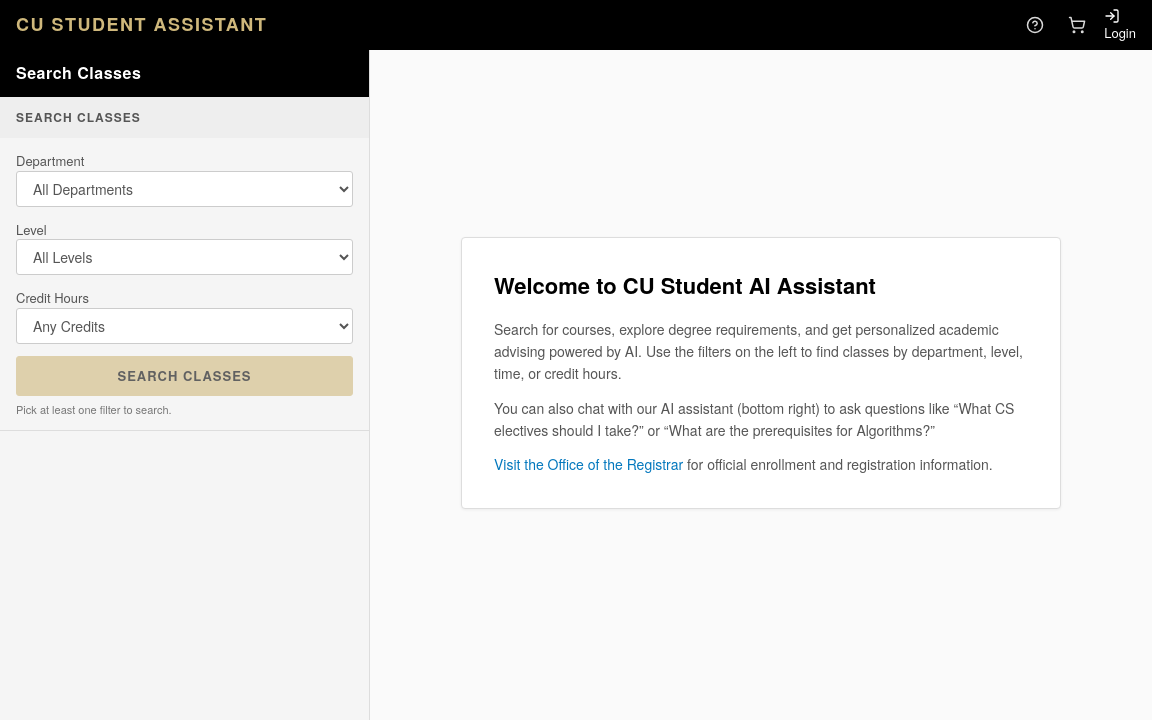
CourseSearchView › shows pagination footer with range and total after a search
Select "CSCI — Computer Science" in the dropdown with id "filter-dept" at (184, 188), box x1=16 y1=170 x2=353 y2=206
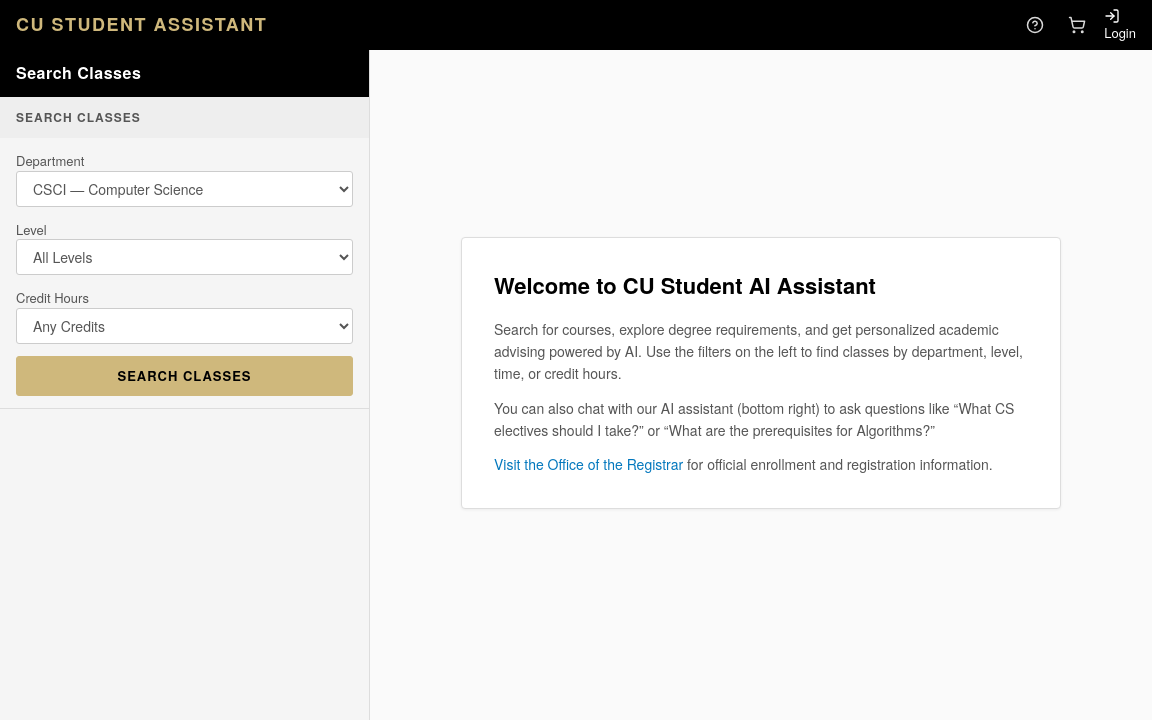
Submit the form, box x1=0 y1=97 x2=369 y2=409
(page scrolled)
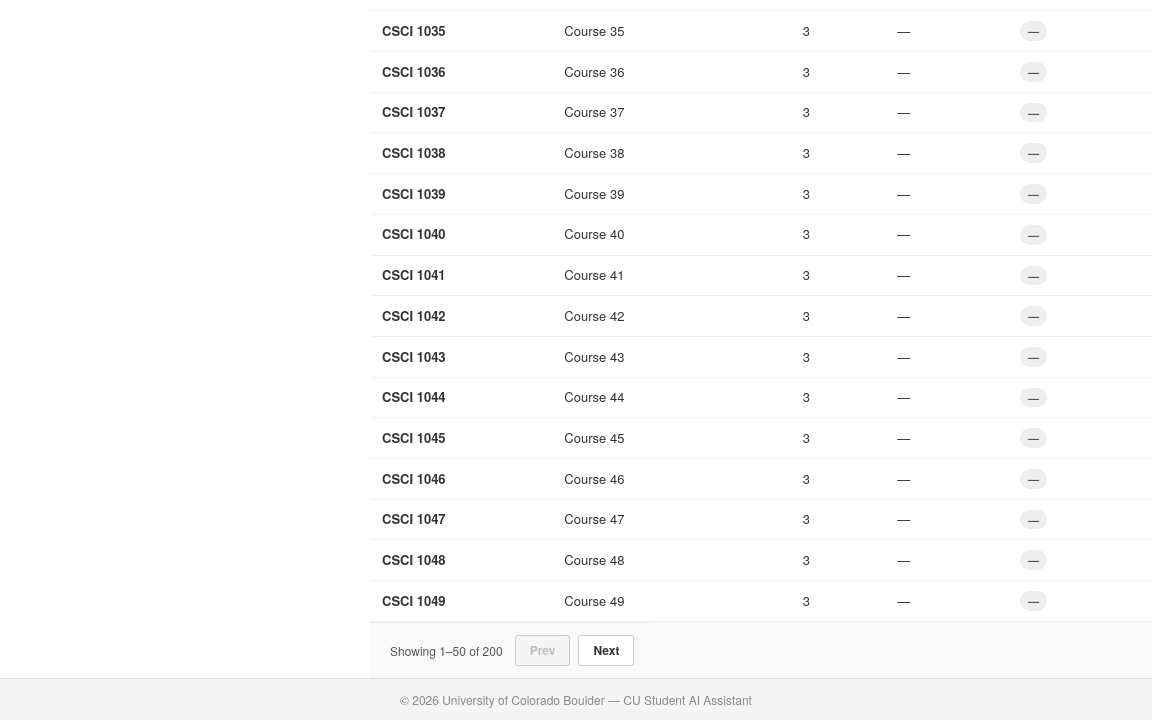
Check: the text "Showing 1–50 of 200" is shown, box x1=390 y1=642 x2=503 y2=659
